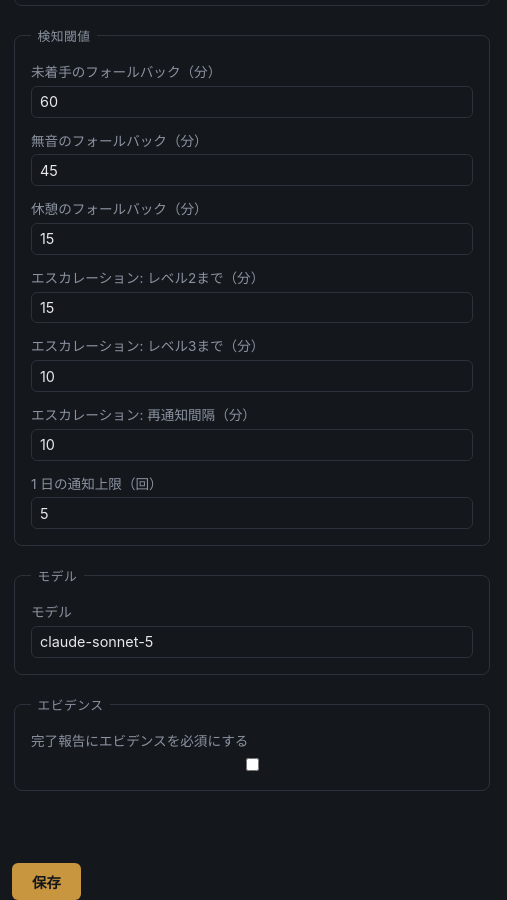
SettingsView › shows a success message and the next-effective note after a successful save
(page scrolled)
Click the button "保存" at (46, 881), box [12,862,81,899]
(page scrolled)
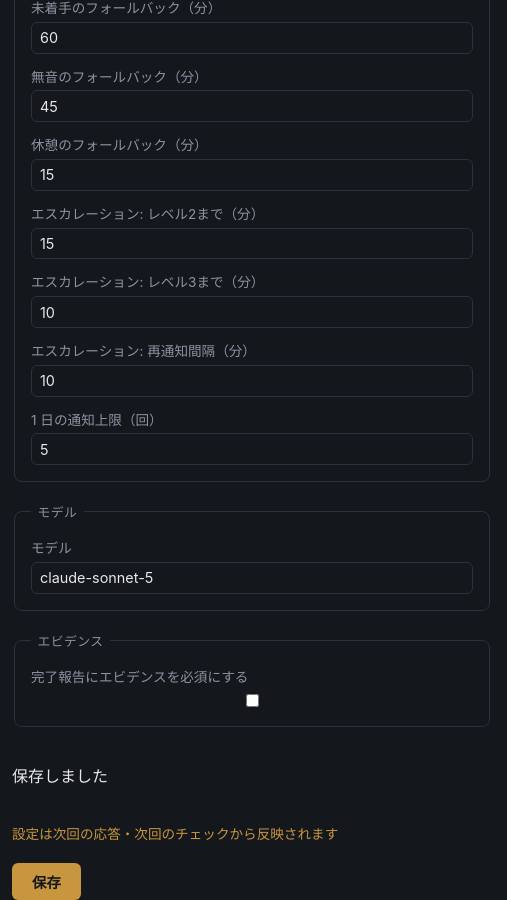
Result: the text "保存しました" is shown at [12,766,108,786]
Result: the text "設定は次回の応答・次回のチェックから反映されます" is shown at [12,826,338,842]
